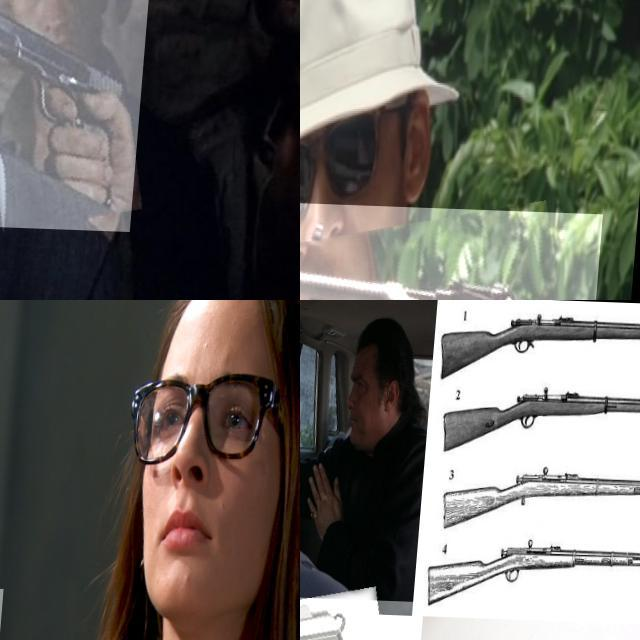gun-knife-thesis - v11 Yolov5 augmented: (0, 0, 154, 228), (300, 200, 607, 300), (427, 531, 640, 613), (437, 306, 640, 387), (440, 379, 640, 459), (442, 458, 640, 535), (300, 389, 328, 438)
